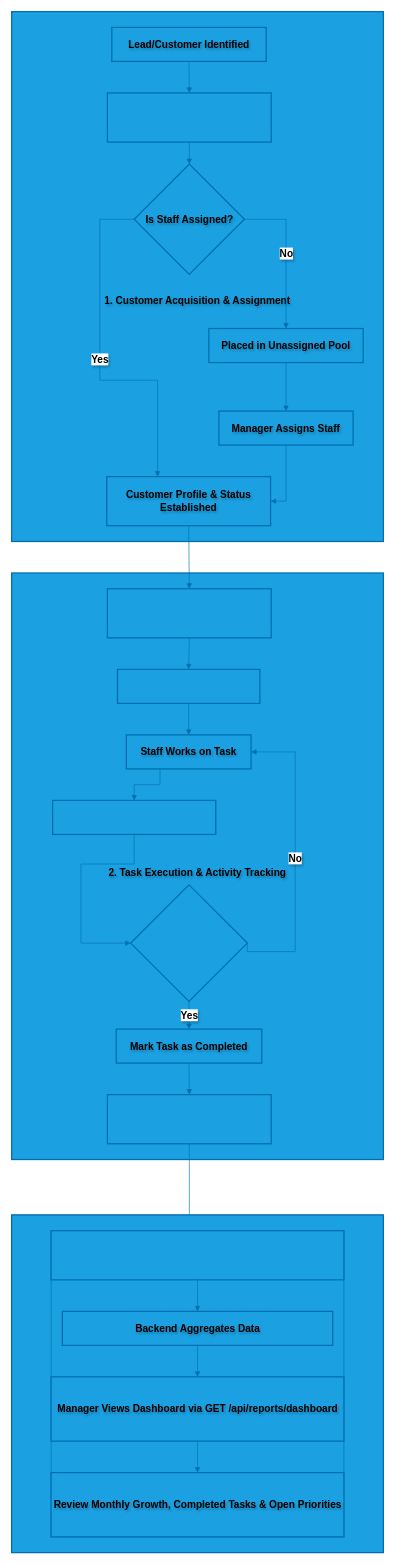
This 394x1564 diagram has some shape labels left out. The centre of each missing label's shape, as x and y in pixels:
Is Work Complete?: [189,943]
Set Priority & Due Date: [188,686]
Staff Creates Task via POST /api/customers/:id/tasks: [189,613]
Staff/Manager Enters Data via POST /api/customers: [189,117]
System Automatically Logs Activity: [189,1119]
Update Customer Lifecycle Status: [197,1255]
Update Task Details / Notes: [134,817]
